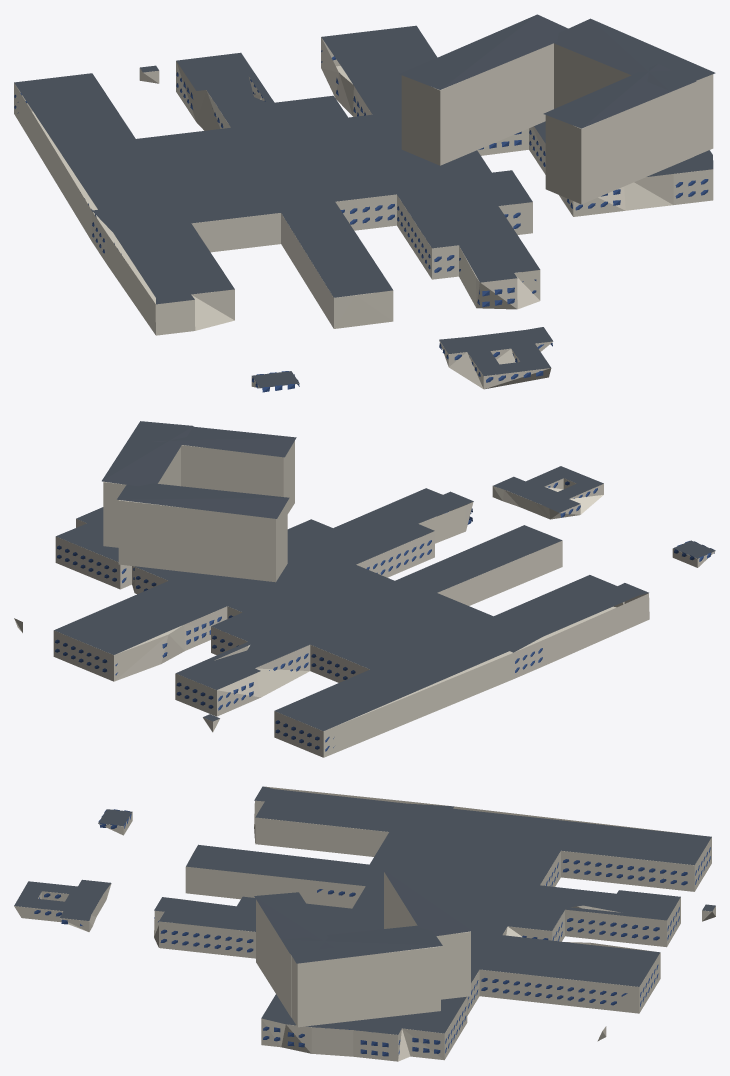
Rendered from olvg-west.lod1.glb.
3 views of the same model, one above another, from view 1: azimuth 30°, elevation 25°; view 2: azimuth 150°, elevation 25°; view 3: azimuth 270°, elevation 25° (orthographic). The views are drawn at different scales.
Visible parts, largest first — view 1: olvg-west; view 2: olvg-west; view 3: olvg-west.
Boxes of the visible parts, x1,y1,x2,y2 form: olvg-west: (14,14,715,392); olvg-west: (14,421,715,757); olvg-west: (14,786,715,1061).
Size of the model in its own units: 191 by 32.94 by 227.
